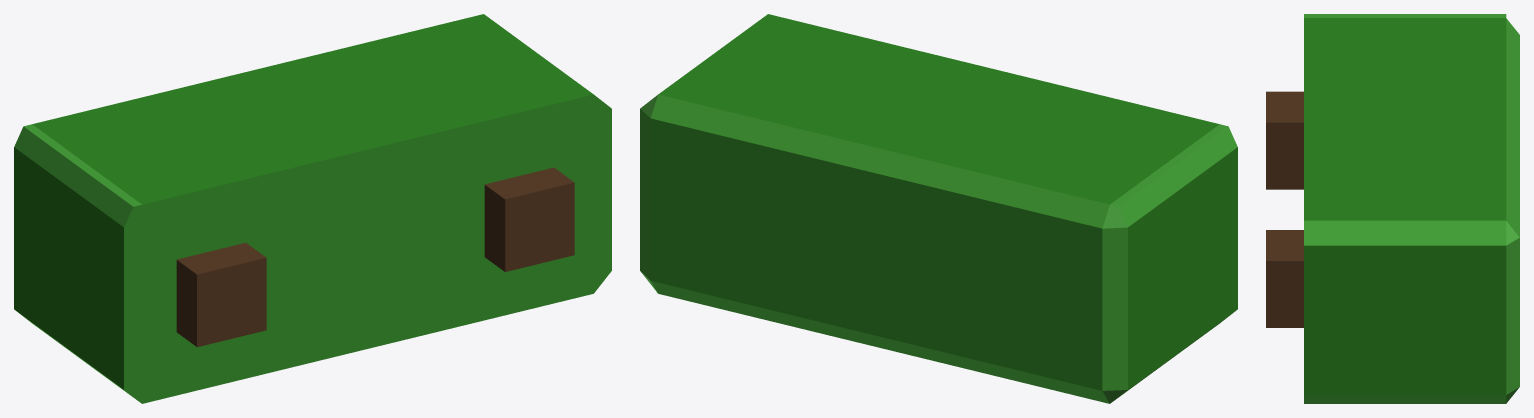
The model's file is cube_tree_1.fbx.
The picture shows the model from 3 angles, left to right: view 1: azimuth 30°, elevation 25°; view 2: azimuth 150°, elevation 25°; view 3: azimuth 270°, elevation 25°; orthographic projection. The views are drawn at different scales.
Visible parts, largest first — view 1: cube_tree; view 2: cube_tree; view 3: cube_tree.
Boxes of the visible parts, x1,y1,x2,y2 form: cube_tree: (14, 14, 611, 403); cube_tree: (640, 14, 1237, 403); cube_tree: (1266, 14, 1519, 403).
Bounding box in the file's own units: 281 × 110 × 138.
